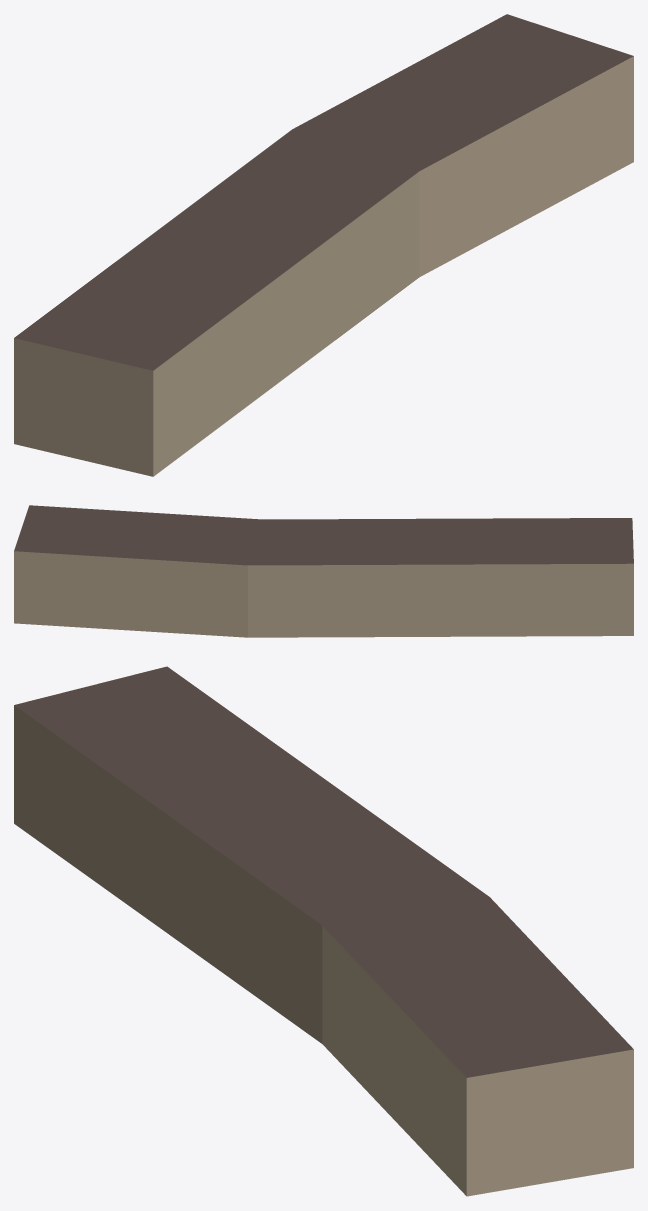
The picture shows the model from 3 angles, top to bottom: view 1: azimuth 30°, elevation 25°; view 2: azimuth 150°, elevation 25°; view 3: azimuth 270°, elevation 25°; orthographic projection. The views are drawn at different scales.
Parts seen in each view (by area): view 1: HP-w859447945; view 2: HP-w859447945; view 3: HP-w859447945.
Part boxes in pixels (x1=…): HP-w859447945: x1=14, y1=14, x2=633, y2=476; HP-w859447945: x1=14, y1=505, x2=633, y2=637; HP-w859447945: x1=14, y1=666, x2=633, y2=1196.
Size of the model in its own units: 66.96 by 9 by 42.63.
